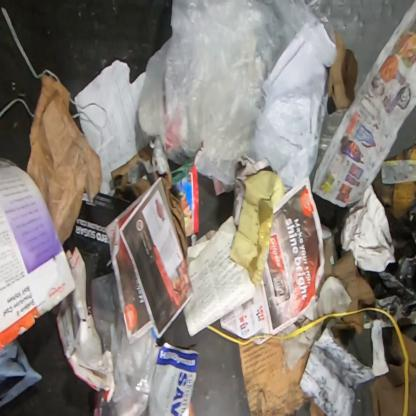cardboard: (26, 73, 102, 248), (238, 332, 312, 416), (373, 328, 416, 415), (330, 326, 342, 342)
soft_plastic: (136, 1, 337, 190), (92, 272, 158, 416), (0, 339, 42, 409)
